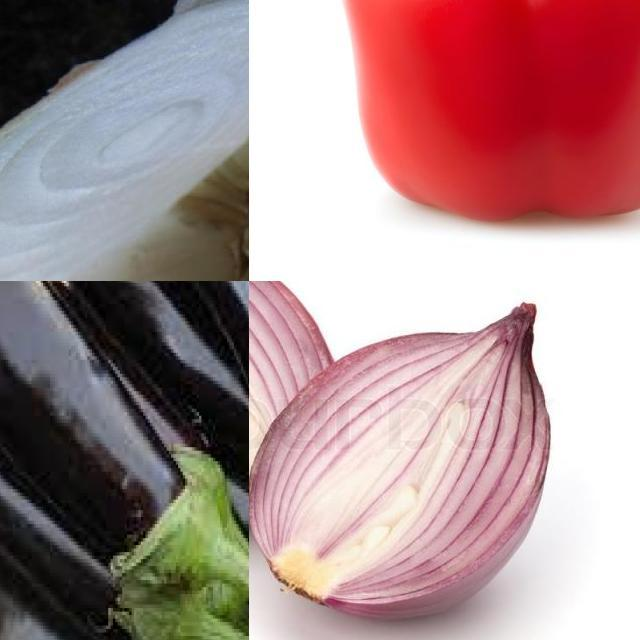bell_pepper: (337, 1, 640, 226)
eggplant: (1, 282, 184, 559), (62, 282, 250, 479)
onion: (250, 300, 557, 625), (1, 1, 250, 282), (250, 282, 333, 534)
